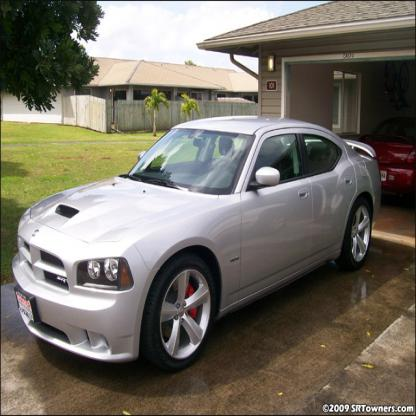Vehicle: (11, 117, 383, 380)
